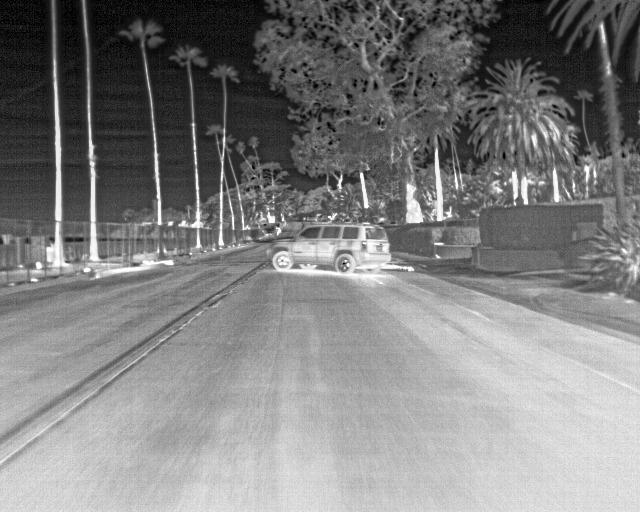car: (269, 223, 392, 276)
